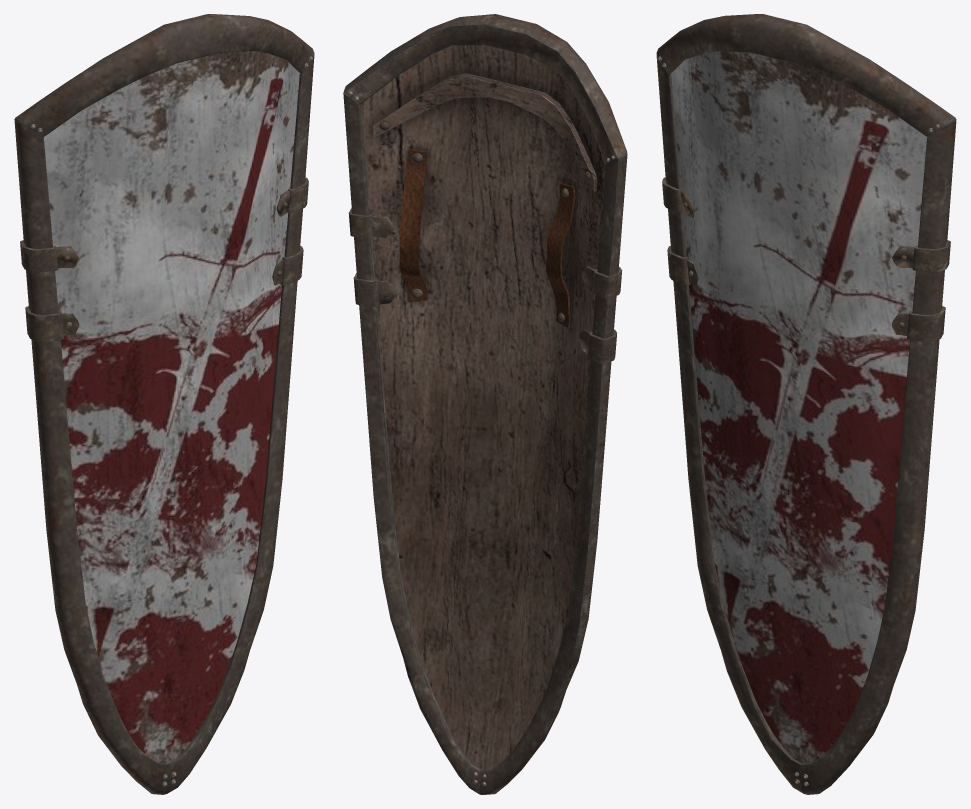
Rendered from ph_kite_shield.glb.
The picture shows the model from 3 angles, left to right: view 1: azimuth 30°, elevation 25°; view 2: azimuth 150°, elevation 25°; view 3: azimuth 330°, elevation 25°; orthographic projection. The views are drawn at different scales.
Visible parts, largest first — view 1: kite_shield_body; view 2: kite_shield_body; view 3: kite_shield_body.
Part boxes in pixels (<box>): kite_shield_body: <box>14,14,314,794</box>; kite_shield_body: <box>343,14,627,794</box>; kite_shield_body: <box>656,14,956,794</box>.
Size of the model in its own units: 0.5433 by 1.39 by 0.1347.
Materials: 2 (2 with a texture image).
